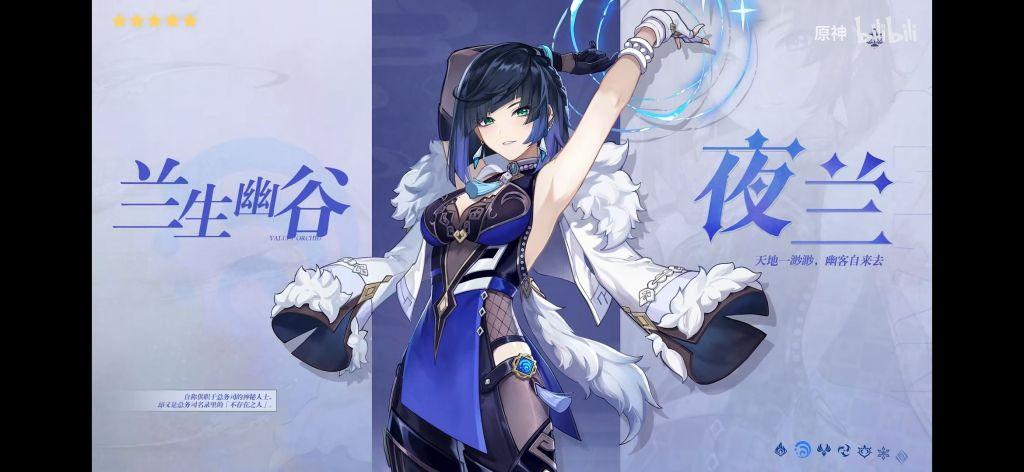夜兰: (385, 9, 708, 472)
